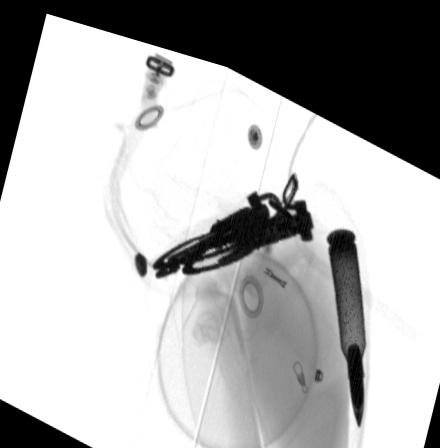Bullet: (325, 207, 367, 408)
HandCuffs: (150, 150, 315, 271)
